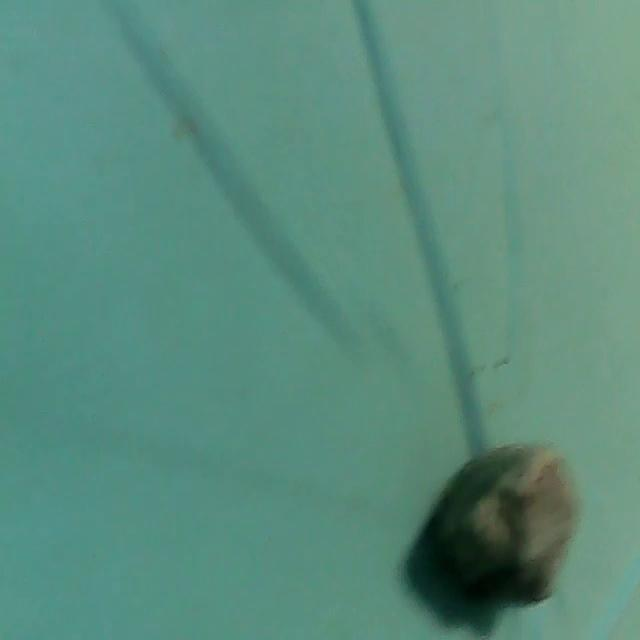rock: (411, 430, 583, 618)
